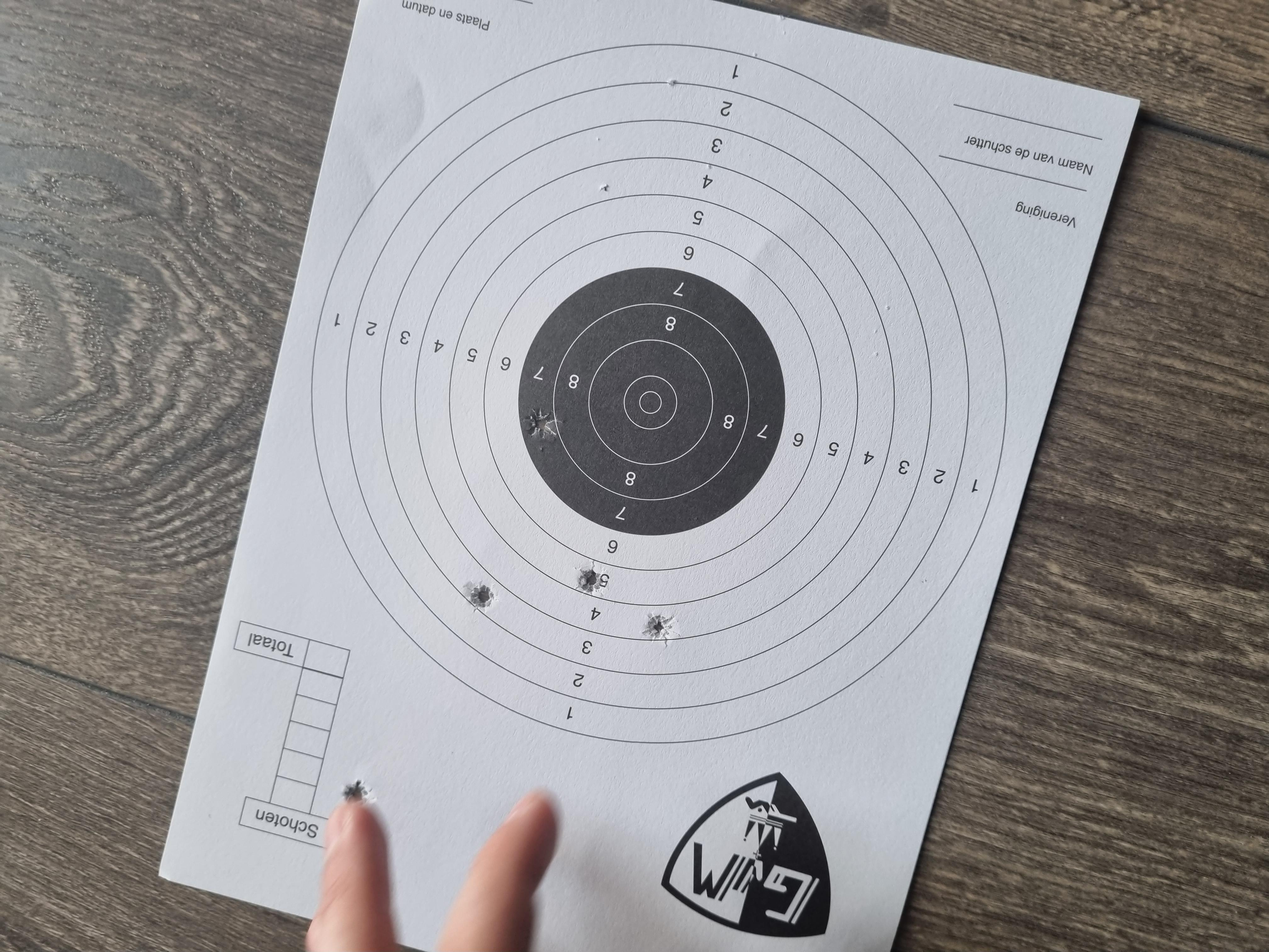hole: (681, 392, 723, 420), (412, 480, 455, 507), (474, 430, 517, 455), (192, 255, 231, 281), (456, 348, 494, 373)
